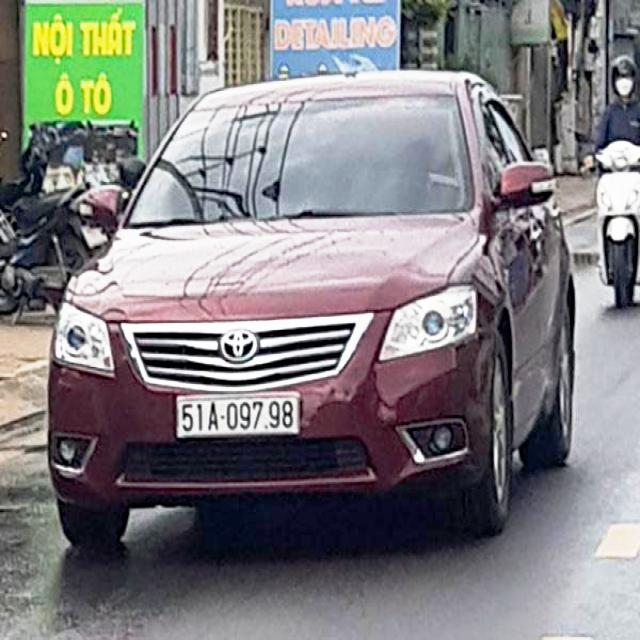license_plate: (178, 392, 299, 441)
